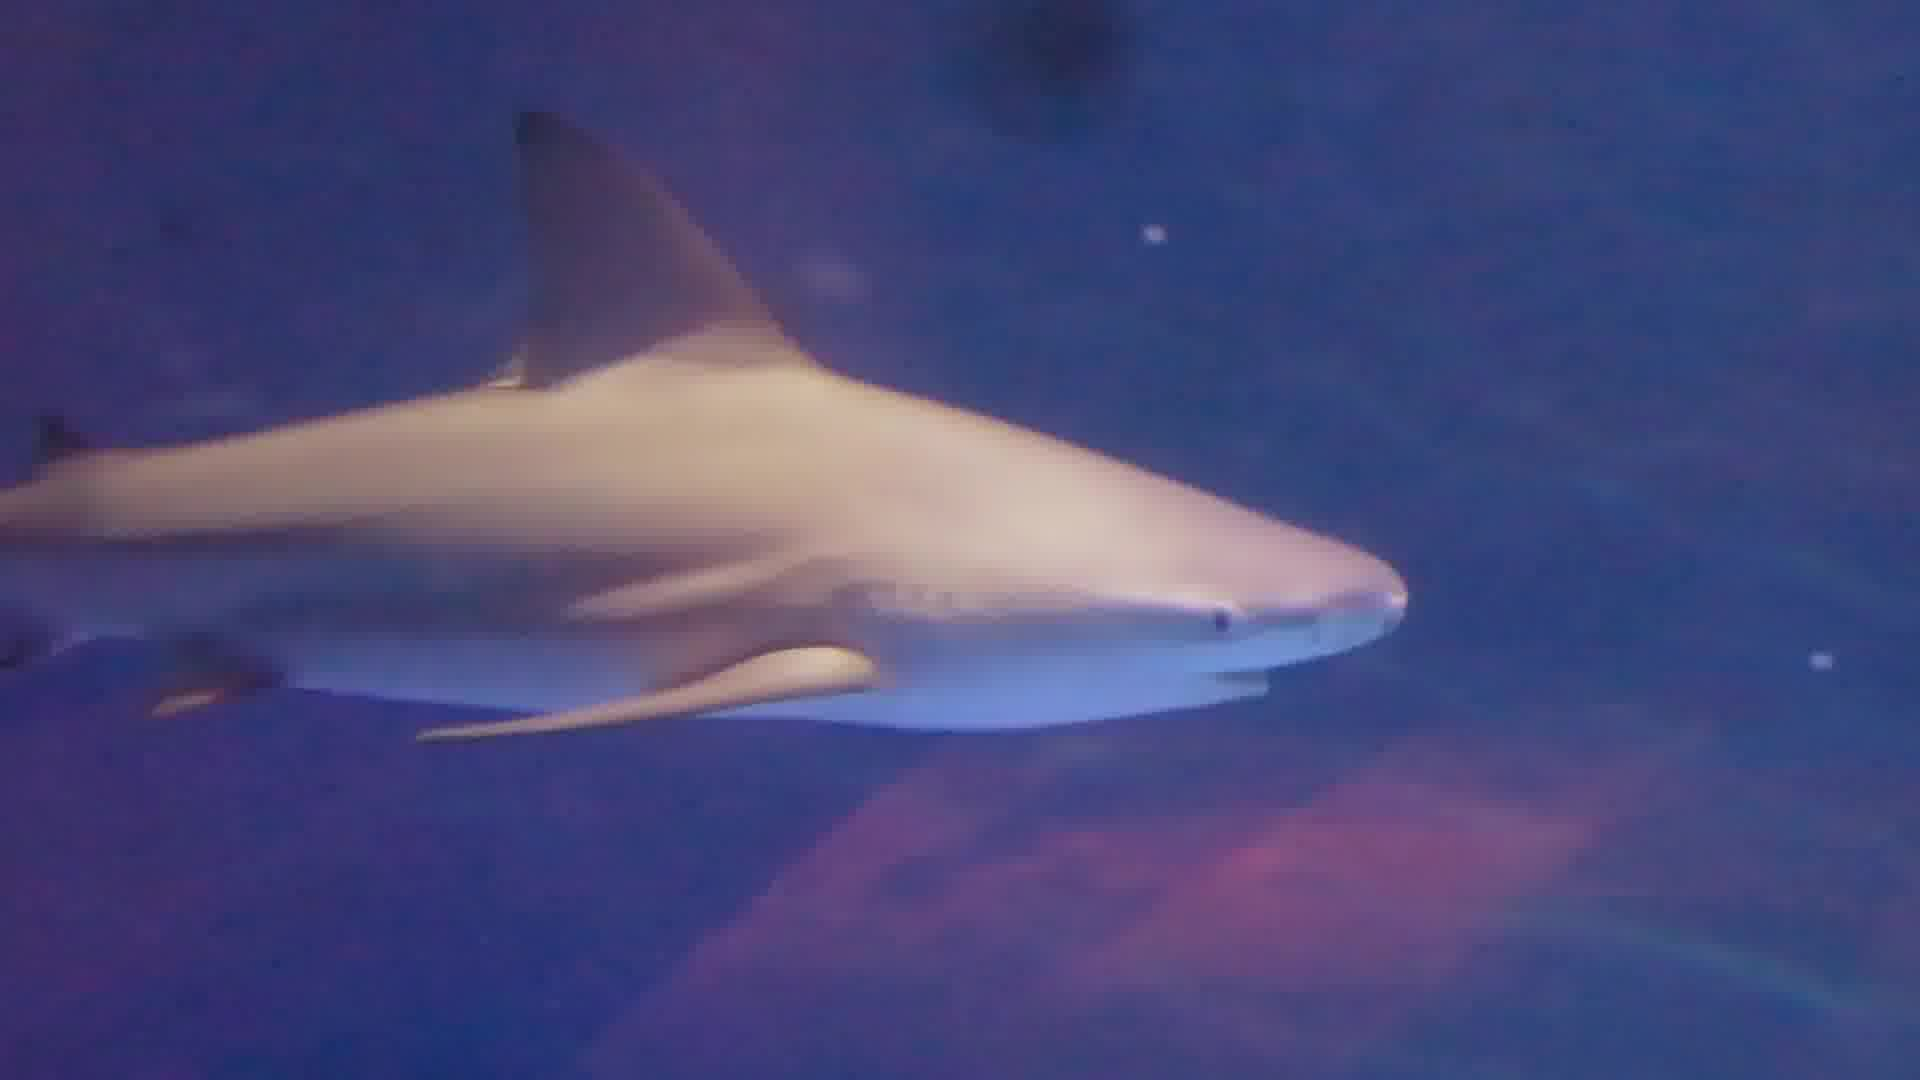Carcharhinus leucas: (26, 95, 1410, 804)
